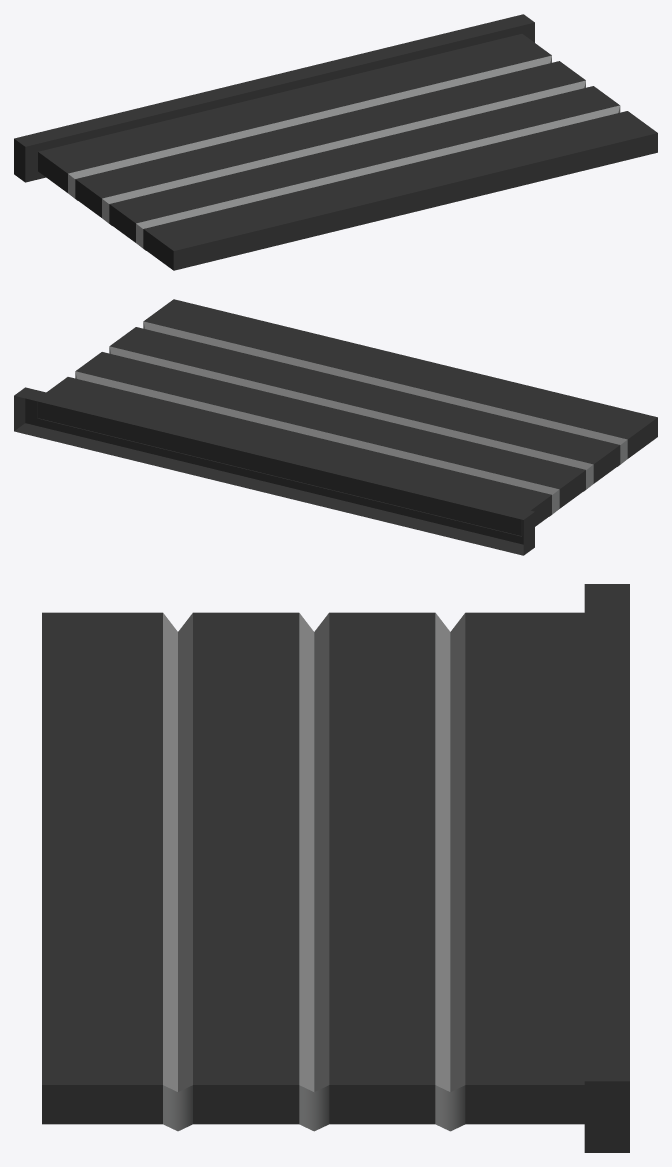
The model's file is Awning_A_01.FBX.
3 renders of one model, top to bottom at view 1: azimuth 30°, elevation 25°; view 2: azimuth 150°, elevation 25°; view 3: azimuth 270°, elevation 25°, orthographic. The views are drawn at different scales.
Visible parts, largest first — view 1: Awning_A_01; view 2: Awning_A_01; view 3: Awning_A_01.
Boxes of the visible parts, x1,y1,x2,y2 form: Awning_A_01: [14, 14, 657, 270]; Awning_A_01: [14, 299, 657, 555]; Awning_A_01: [42, 584, 629, 1152].
Bounding box in the file's own units: 2.36 × 0.1584 × 1.18.
